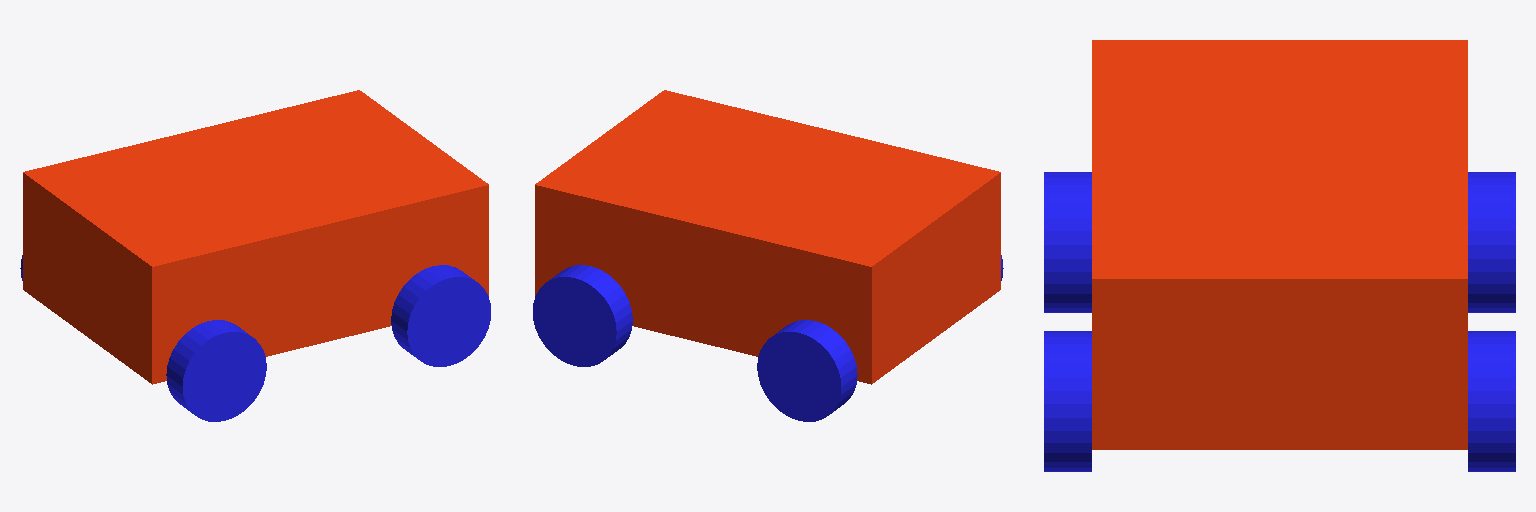
The robot description file, URDF, robot "robot":
<?xml version="1.0" ?>
<!-- =================================================================================== -->
<!-- |    This document was autogenerated by xacro from robot_simple.urdf.xacro        | -->
<!-- |    EDITING THIS FILE BY HAND IS NOT RECOMMENDED                                 | -->
<!-- =================================================================================== -->
<robot name="robot">
  <!-- Specify some standard inertial calculations https://en.wikipedia.org/wiki/List_of_moments_of_inertia -->
  <!-- These make use of xacro's mathematical functionality -->
  <material name="white">
    <color rgba="1 1 1 1"/>
  </material>
  <material name="orange">
    <color rgba="1 0.3 0.1 1"/>
  </material>
  <material name="blue">
    <color rgba="0.2 0.2 1 1"/>
  </material>
  <material name="black">
    <color rgba="0 0 0 1"/>
  </material>
  <material name="red">
    <color rgba="1 0 0 1"/>
  </material>
  <material name="green">
    <color rgba="0 1 0 1"/>
  </material>
  <material name="yellow">
    <color rgba="1 1 0 1"/>
  </material>
  <material name="purple">
    <color rgba="0.5 0 0.5 1"/>
  </material>
  <material name="cyan">
    <color rgba="0 1 1 1"/>
  </material>
  <material name="magenta">
    <color rgba="1 0 1 1"/>
  </material>
  <material name="gray">
    <color rgba="0.5 0.5 0.5 1"/>
  </material>
  <material name="dark_gray">
    <color rgba="0.25 0.25 0.25 1"/>
  </material>
  <material name="light_gray">
    <color rgba="0.75 0.75 0.75 1"/>
  </material>
  <material name="brown">
    <color rgba="0.6 0.3 0.1 1"/>
  </material>
  <material name="light_blue">
    <color rgba="0.5 0.7 1 1"/>
  </material>
  <material name="lime">
    <color rgba="0.7 1 0 1"/>
  </material>
  <material name="pink">
    <color rgba="1 0.6 0.8 1"/>
  </material>
  <material name="teal">
    <color rgba="0 0.5 0.5 1"/>
  </material>
  <material name="navy">
    <color rgba="0 0 0.5 1"/>
  </material>
  <!-- BASE LINK -->
  <link name="base_link">

    </link>
  <!-- BASE_FOOTPRINT LINK -->
  <joint name="base_footprint_joint" type="fixed">
    <parent link="base_link"/>
    <child link="base_footprint"/>
    <origin rpy="0 0 0" xyz="0 0 0"/>
  </joint>
  <link name="base_footprint">
    </link>
  <!-- CHASSIS LINK -->
  <joint name="chassis_joint" type="fixed">
    <parent link="base_link"/>
    <child link="chassis"/>
    <origin xyz="0 0 -0.01"/>
  </joint>
  <link name="chassis">
    <visual>
      <origin xyz="0.3 0 0.1"/>
      <geometry>
        <box size="0.6 0.4 0.2"/>
      </geometry>
      <material name="orange"/>
    </visual>
    <collision>
      <origin xyz="0.3 0 0.1"/>
      <geometry>
        <box size="0.6 0.4 0.2"/>
      </geometry>
    </collision>
    <inertial>
      <origin rpy="0 0 0" xyz="0.3 0 0.1"/>
      <mass value="0.5"/>
      <inertia ixx="0.008333333333333335" ixy="0.0" ixz="0.0" iyy="0.016666666666666666" iyz="0.0" izz="0.021666666666666667"/>
    </inertial>
  </link>
  <gazebo reference="chassis">
    <material>Gazebo/Orange</material>
  </gazebo>
  <!-- LEFT WHEEL LINK -->
  <joint name="front_left_wheel_joint" type="continuous">
    <parent link="base_link"/>
    <child link="front_left_wheel"/>
    <origin rpy="-1.5707963267948966 0 0" xyz="0.5  0.225 0"/>
    <axis xyz="0 0 1"/>
  </joint>
  <link name="front_left_wheel">
    <visual>
      <geometry>
        <cylinder length="0.05" radius="0.075"/>
      </geometry>
      <material name="blue"/>
    </visual>
    <collision>
      <geometry>
        <sphere radius="0.075"/>
      </geometry>
    </collision>
    <inertial>
      <origin rpy="0 0 0" xyz="0 0 0"/>
      <mass value="0.05"/>
      <inertia ixx="8.072916666666665e-05" ixy="0.0" ixz="0.0" iyy="8.072916666666665e-05" iyz="0.0" izz="0.000140625"/>
    </inertial>
  </link>
  <gazebo reference="front_left_wheel">
    <material>Gazebo/Blue</material>
  </gazebo>
  <joint name="rear_left_wheel_joint" type="continuous">
    <parent link="base_link"/>
    <child link="rear_left_wheel"/>
    <origin rpy="-1.5707963267948966 0 0" xyz="0.09999999999999998 0.225 0"/>
    <axis xyz="0 0 1"/>
  </joint>
  <link name="rear_left_wheel">
    <visual>
      <geometry>
        <cylinder length="0.05" radius="0.075"/>
      </geometry>
      <material name="blue"/>
    </visual>
    <collision>
      <geometry>
        <sphere radius="0.075"/>
      </geometry>
    </collision>
    <inertial>
      <origin rpy="0 0 0" xyz="0 0 0"/>
      <mass value="0.05"/>
      <inertia ixx="8.072916666666665e-05" ixy="0.0" ixz="0.0" iyy="8.072916666666665e-05" iyz="0.0" izz="0.000140625"/>
    </inertial>
  </link>
  <gazebo reference="rear_left_wheel">
    <material>Gazebo/Blue</material>
  </gazebo>
  <!-- RIGHT WHEEL LINK -->
  <joint name="front_right_wheel_joint" type="continuous">
    <parent link="base_link"/>
    <child link="front_right_wheel"/>
    <origin rpy="1.5707963267948966 0 0" xyz="0.5 -0.225 0"/>
    <axis xyz="0 0 1"/>
  </joint>
  <link name="front_right_wheel">
    <visual>
      <geometry>
        <cylinder length="0.05" radius="0.075"/>
      </geometry>
      <material name="blue"/>
    </visual>
    <collision>
      <geometry>
        <sphere radius="0.075"/>
      </geometry>
    </collision>
    <inertial>
      <origin rpy="0 0 0" xyz="0 0 0"/>
      <mass value="0.05"/>
      <inertia ixx="8.072916666666665e-05" ixy="0.0" ixz="0.0" iyy="8.072916666666665e-05" iyz="0.0" izz="0.000140625"/>
    </inertial>
  </link>
  <gazebo reference="front_right_wheel">
    <material>Gazebo/Blue</material>
  </gazebo>
  <joint name="rear_right_wheel_joint" type="continuous">
    <parent link="base_link"/>
    <child link="rear_right_wheel"/>
    <origin rpy="1.5707963267948966 0 0" xyz="0.09999999999999998 -0.225 0"/>
    <axis xyz="0 0 1"/>
  </joint>
  <link name="rear_right_wheel">
    <visual>
      <geometry>
        <cylinder length="0.05" radius="0.075"/>
      </geometry>
      <material name="blue"/>
    </visual>
    <collision>
      <geometry>
        <sphere radius="0.075"/>
      </geometry>
    </collision>
    <inertial>
      <origin rpy="0 0 0" xyz="0 0 0"/>
      <mass value="0.05"/>
      <inertia ixx="8.072916666666665e-05" ixy="0.0" ixz="0.0" iyy="8.072916666666665e-05" iyz="0.0" izz="0.000140625"/>
    </inertial>
  </link>
  <gazebo reference="rear_right_wheel">
    <material>Gazebo/Blue</material>
  </gazebo>
  <gazebo>
    <plugin filename="gz-sim-diff-drive-system" name="gz::sim::systems::DiffDrive">
      <topic>cmd_vel</topic>
      <!-- <frame_id>odom</frame_id> -->
      <child_frame_id>base_footprint</child_frame_id>
      <odom_topic>odom/unfiltered</odom_topic>
      <!-- <tf_topic>/tf</tf_topic> -->
      <left_joint>rear_left_wheel_joint</left_joint>
      <right_joint>rear_right_wheel_joint</right_joint>
      <wheel_separation>0.45</wheel_separation>
      <wheel_radius>0.075</wheel_radius>
      <max_linear_acceleration>1</max_linear_acceleration>
      <min_linear_acceleration>-1</min_linear_acceleration>
      <max_angular_acceleration>2</max_angular_acceleration>
      <min_angular_acceleration>-2</min_angular_acceleration>
      <max_linear_velocity>0.5</max_linear_velocity>
      <min_linear_velocity>-0.5</min_linear_velocity>
      <max_angular_velocity>1</max_angular_velocity>
      <min_angular_velocity>-1</min_angular_velocity>
    </plugin>
  </gazebo>
</robot>

--- What the picture shows (computed from the rendered views, not written in the file) ---
The picture shows the robot from 3 angles, left to right: view 1: azimuth 30°, elevation 25°; view 2: azimuth 150°, elevation 25°; view 3: azimuth 270°, elevation 25°; orthographic projection.
Robot: robot — 7 links, 6 joints (4 continuous, 2 fixed); root link base_link; default pose: all joints at 0.
Links seen in each view (by area): view 1: chassis, rear_right_wheel, front_right_wheel; view 2: chassis, rear_left_wheel, front_left_wheel; view 3: chassis, front_left_wheel, rear_left_wheel, front_right_wheel, rear_right_wheel.
Boxes of the visible links, bbox=[...] form: chassis: bbox=[23, 90, 488, 384]; rear_right_wheel: bbox=[166, 320, 266, 421]; front_right_wheel: bbox=[391, 265, 490, 366]; chassis: bbox=[535, 90, 1000, 384]; rear_left_wheel: bbox=[757, 320, 857, 421]; front_left_wheel: bbox=[533, 265, 632, 366]; chassis: bbox=[1092, 40, 1467, 449]; front_left_wheel: bbox=[1468, 331, 1515, 471]; rear_left_wheel: bbox=[1468, 172, 1515, 312]; front_right_wheel: bbox=[1044, 331, 1091, 471]; rear_right_wheel: bbox=[1044, 172, 1091, 312].
Size in the robot's own frame: 0.6 by 0.5 by 0.265 metres.
Geometry: primitives only (box / cylinder / sphere), no mesh files.